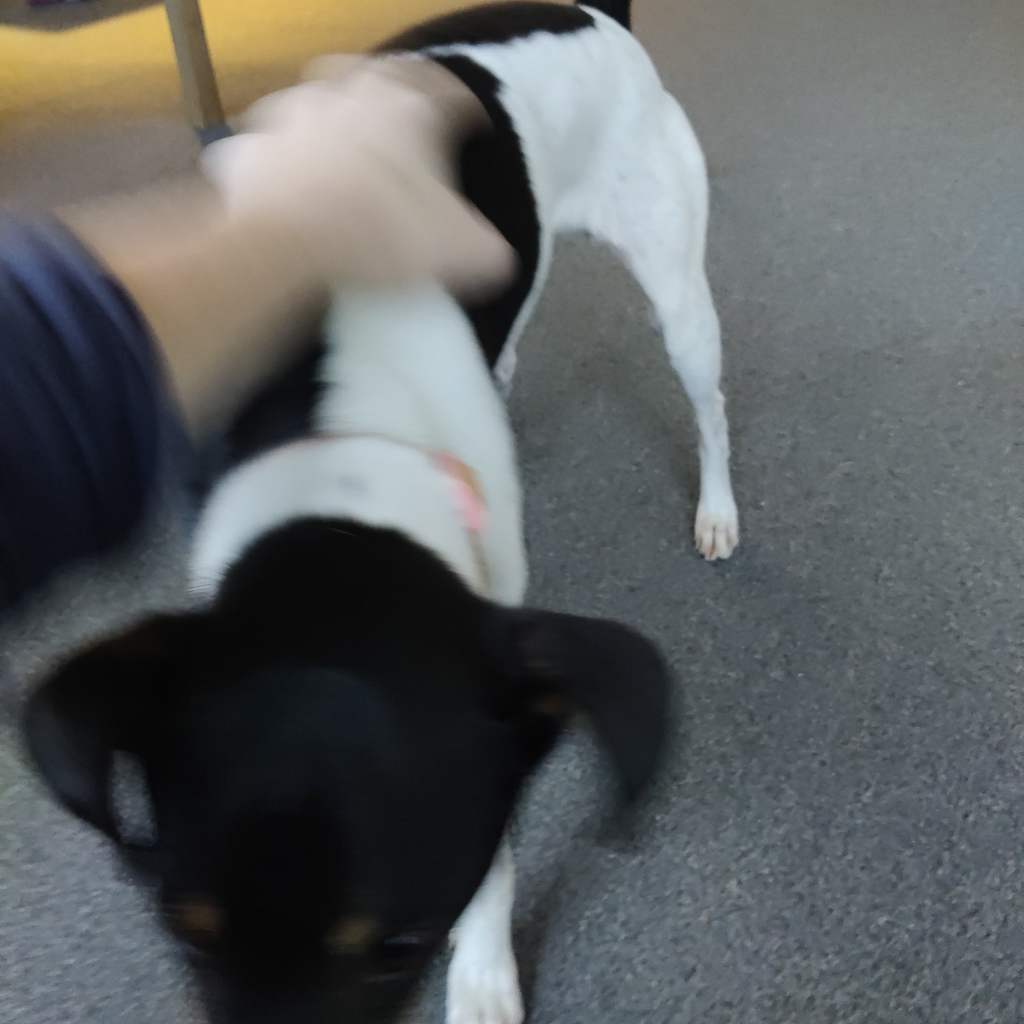Dog: (4, 0, 763, 1024)
Humanoid: (0, 32, 530, 698)
